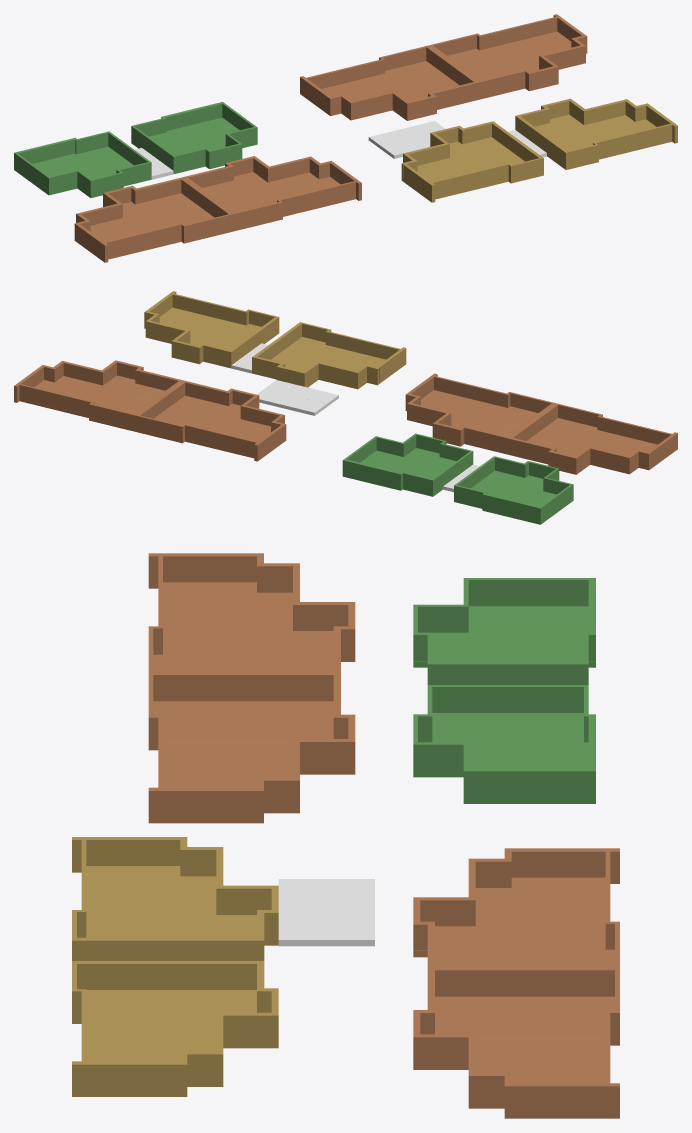
Rendered from cluster2Roof.glb.
3 views of the same model, one above another, from view 1: azimuth 30°, elevation 25°; view 2: azimuth 150°, elevation 25°; view 3: azimuth 270°, elevation 25° (orthographic). The views are drawn at different scales.
Parts seen in each view (by area): view 1: roof5room, roof4room, roof3room, roofCorridor; view 2: roof5room, roof4room, roof3room, roofCorridor; view 3: roof5room, roof4room, roof3room, roofCorridor.
Boxes of the visible parts, x1,y1,x2,y2 form: roof5room: [74, 14, 587, 262]; roof4room: [401, 98, 677, 202]; roof3room: [14, 102, 257, 197]; roofCorridor: [134, 121, 546, 179]; roof5room: [14, 360, 677, 474]; roof4room: [144, 291, 406, 389]; roof3room: [342, 433, 573, 524]; roofCorridor: [231, 343, 479, 492]; roof5room: [148, 553, 619, 1118]; roof4room: [72, 837, 278, 1096]; roof3room: [413, 578, 595, 803]; roofCorridor: [278, 879, 374, 946].
Bounding box in the file's own units: 52.47 × 1.52 × 22.79.
